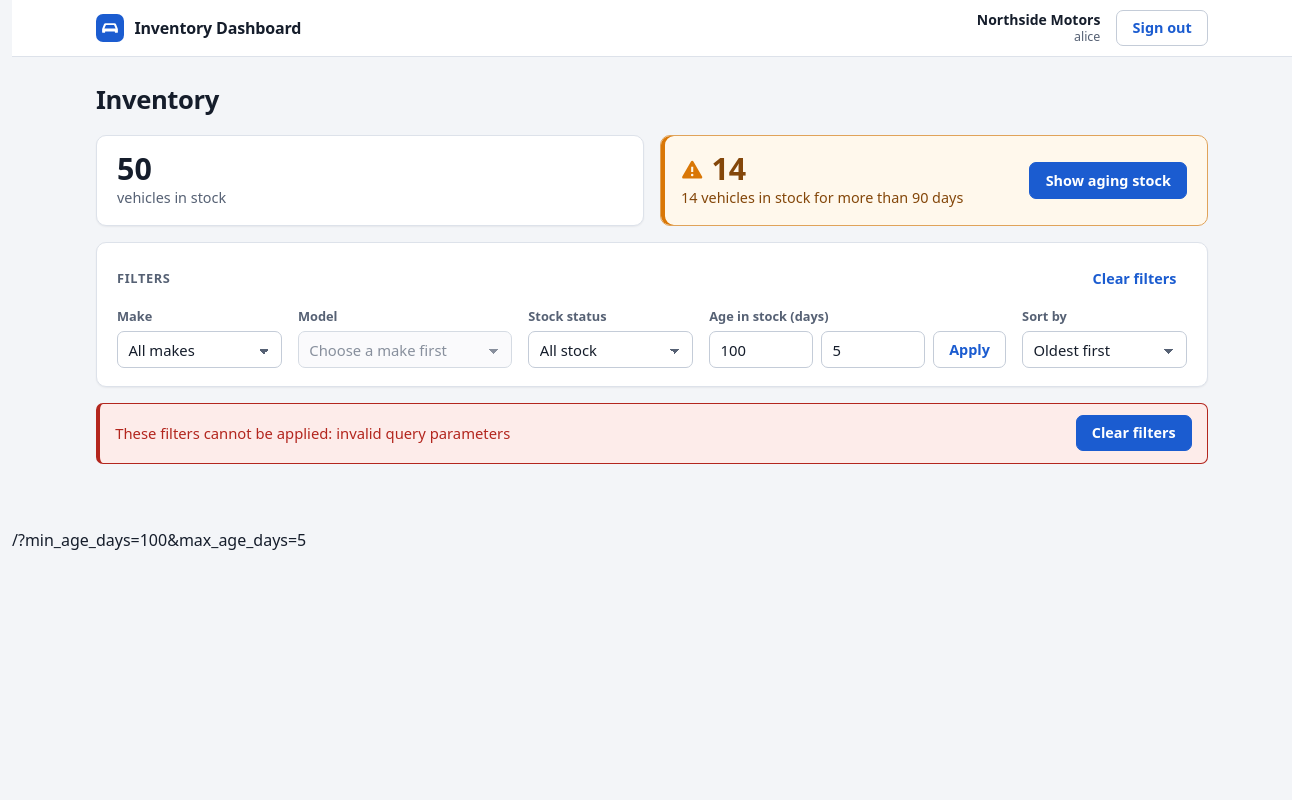
it: when the filters or lists cannot be loaded › offers to clear filters the server rejects, since asking again would fail the same way
This screenshot has width=1292, height=800.
Expected: the message shows "These filters cannot be applied: invalid query parameters", 96,403 -> 1208,464
Click the 1st button "Clear filters".
click(1134, 279)  # box 1082,260 -> 1187,297
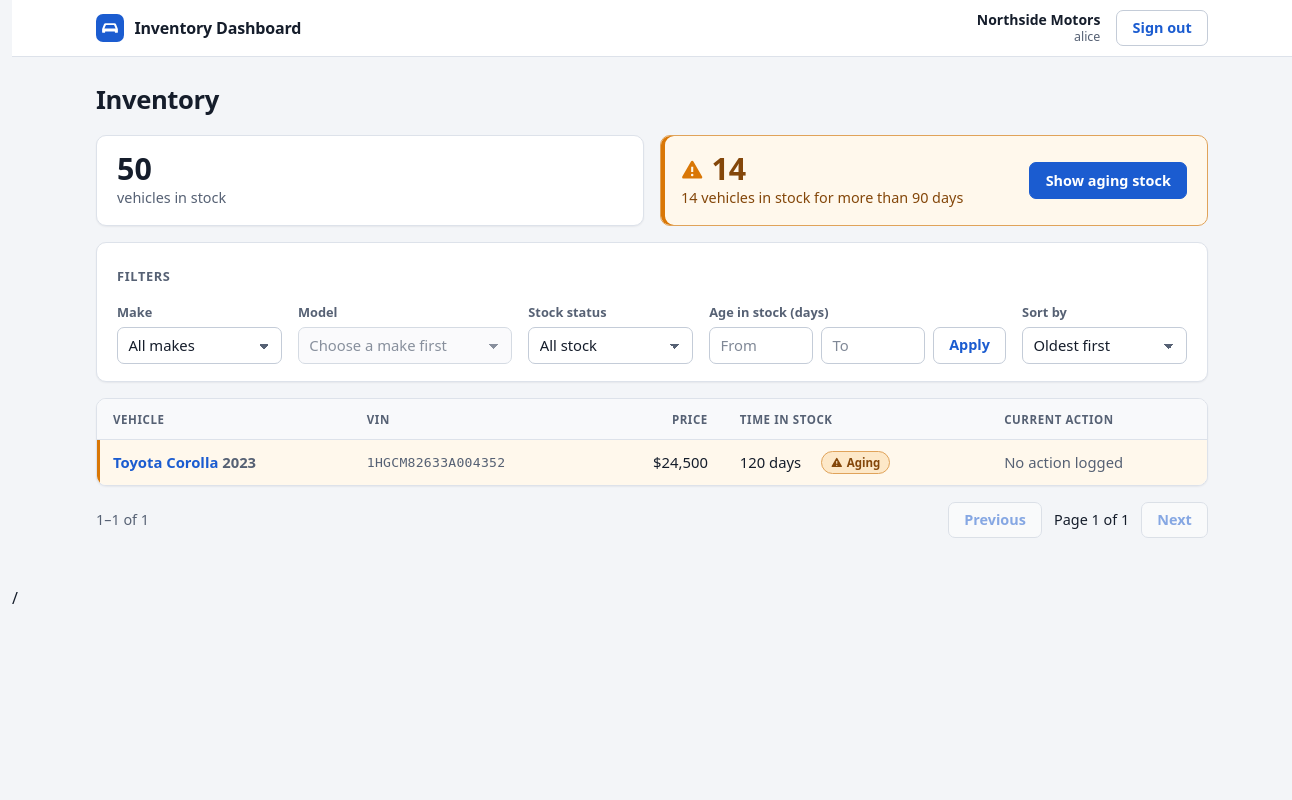
Result: the link "Toyota Corolla" is shown at 113,452 -> 218,472
Result: the text with test id "location" reads "/" at 12,587 -> 18,609
